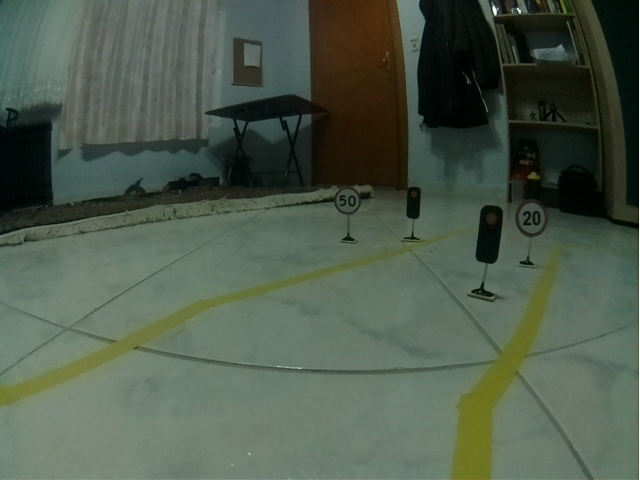Red Traffic Light: (475, 203, 504, 264), (406, 186, 422, 220)
Speed Limit 20: (515, 198, 548, 237)
Speed Limit 50: (334, 186, 361, 215)
